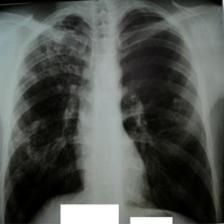tuberculosis: (2, 8, 221, 224)
